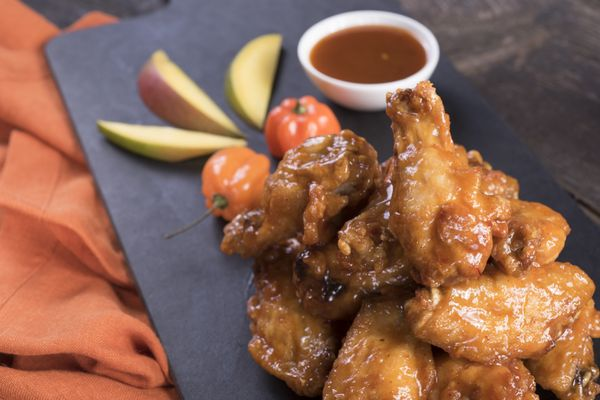sushi: (297, 9, 441, 111)
